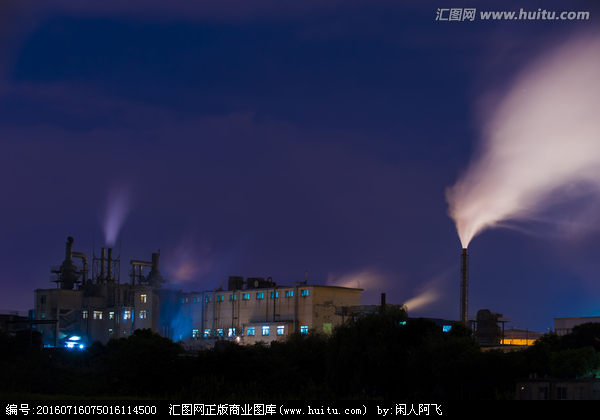dust: (442, 40, 595, 260), (84, 161, 138, 254)
